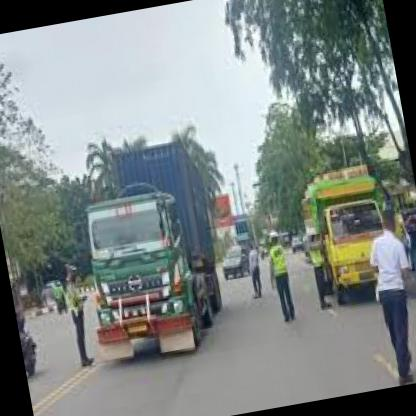truck: (79, 184, 209, 366), (321, 191, 404, 312)
